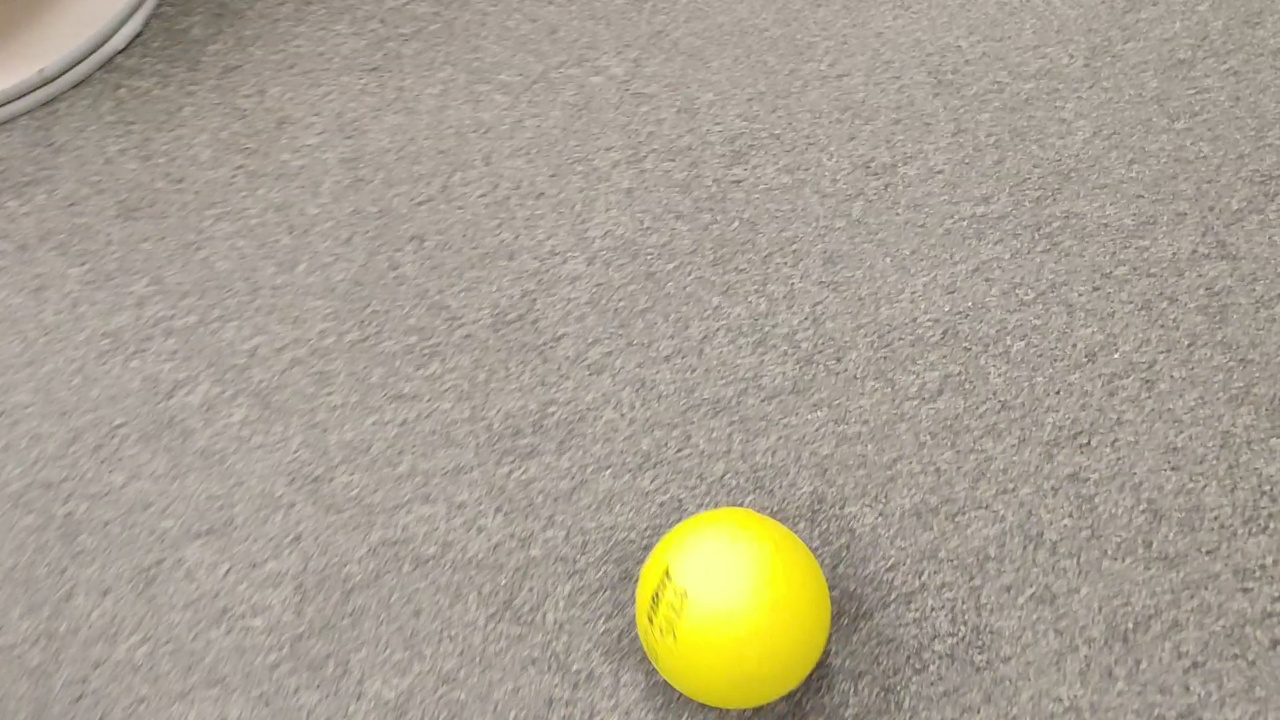Ball: (636, 508, 835, 711)
